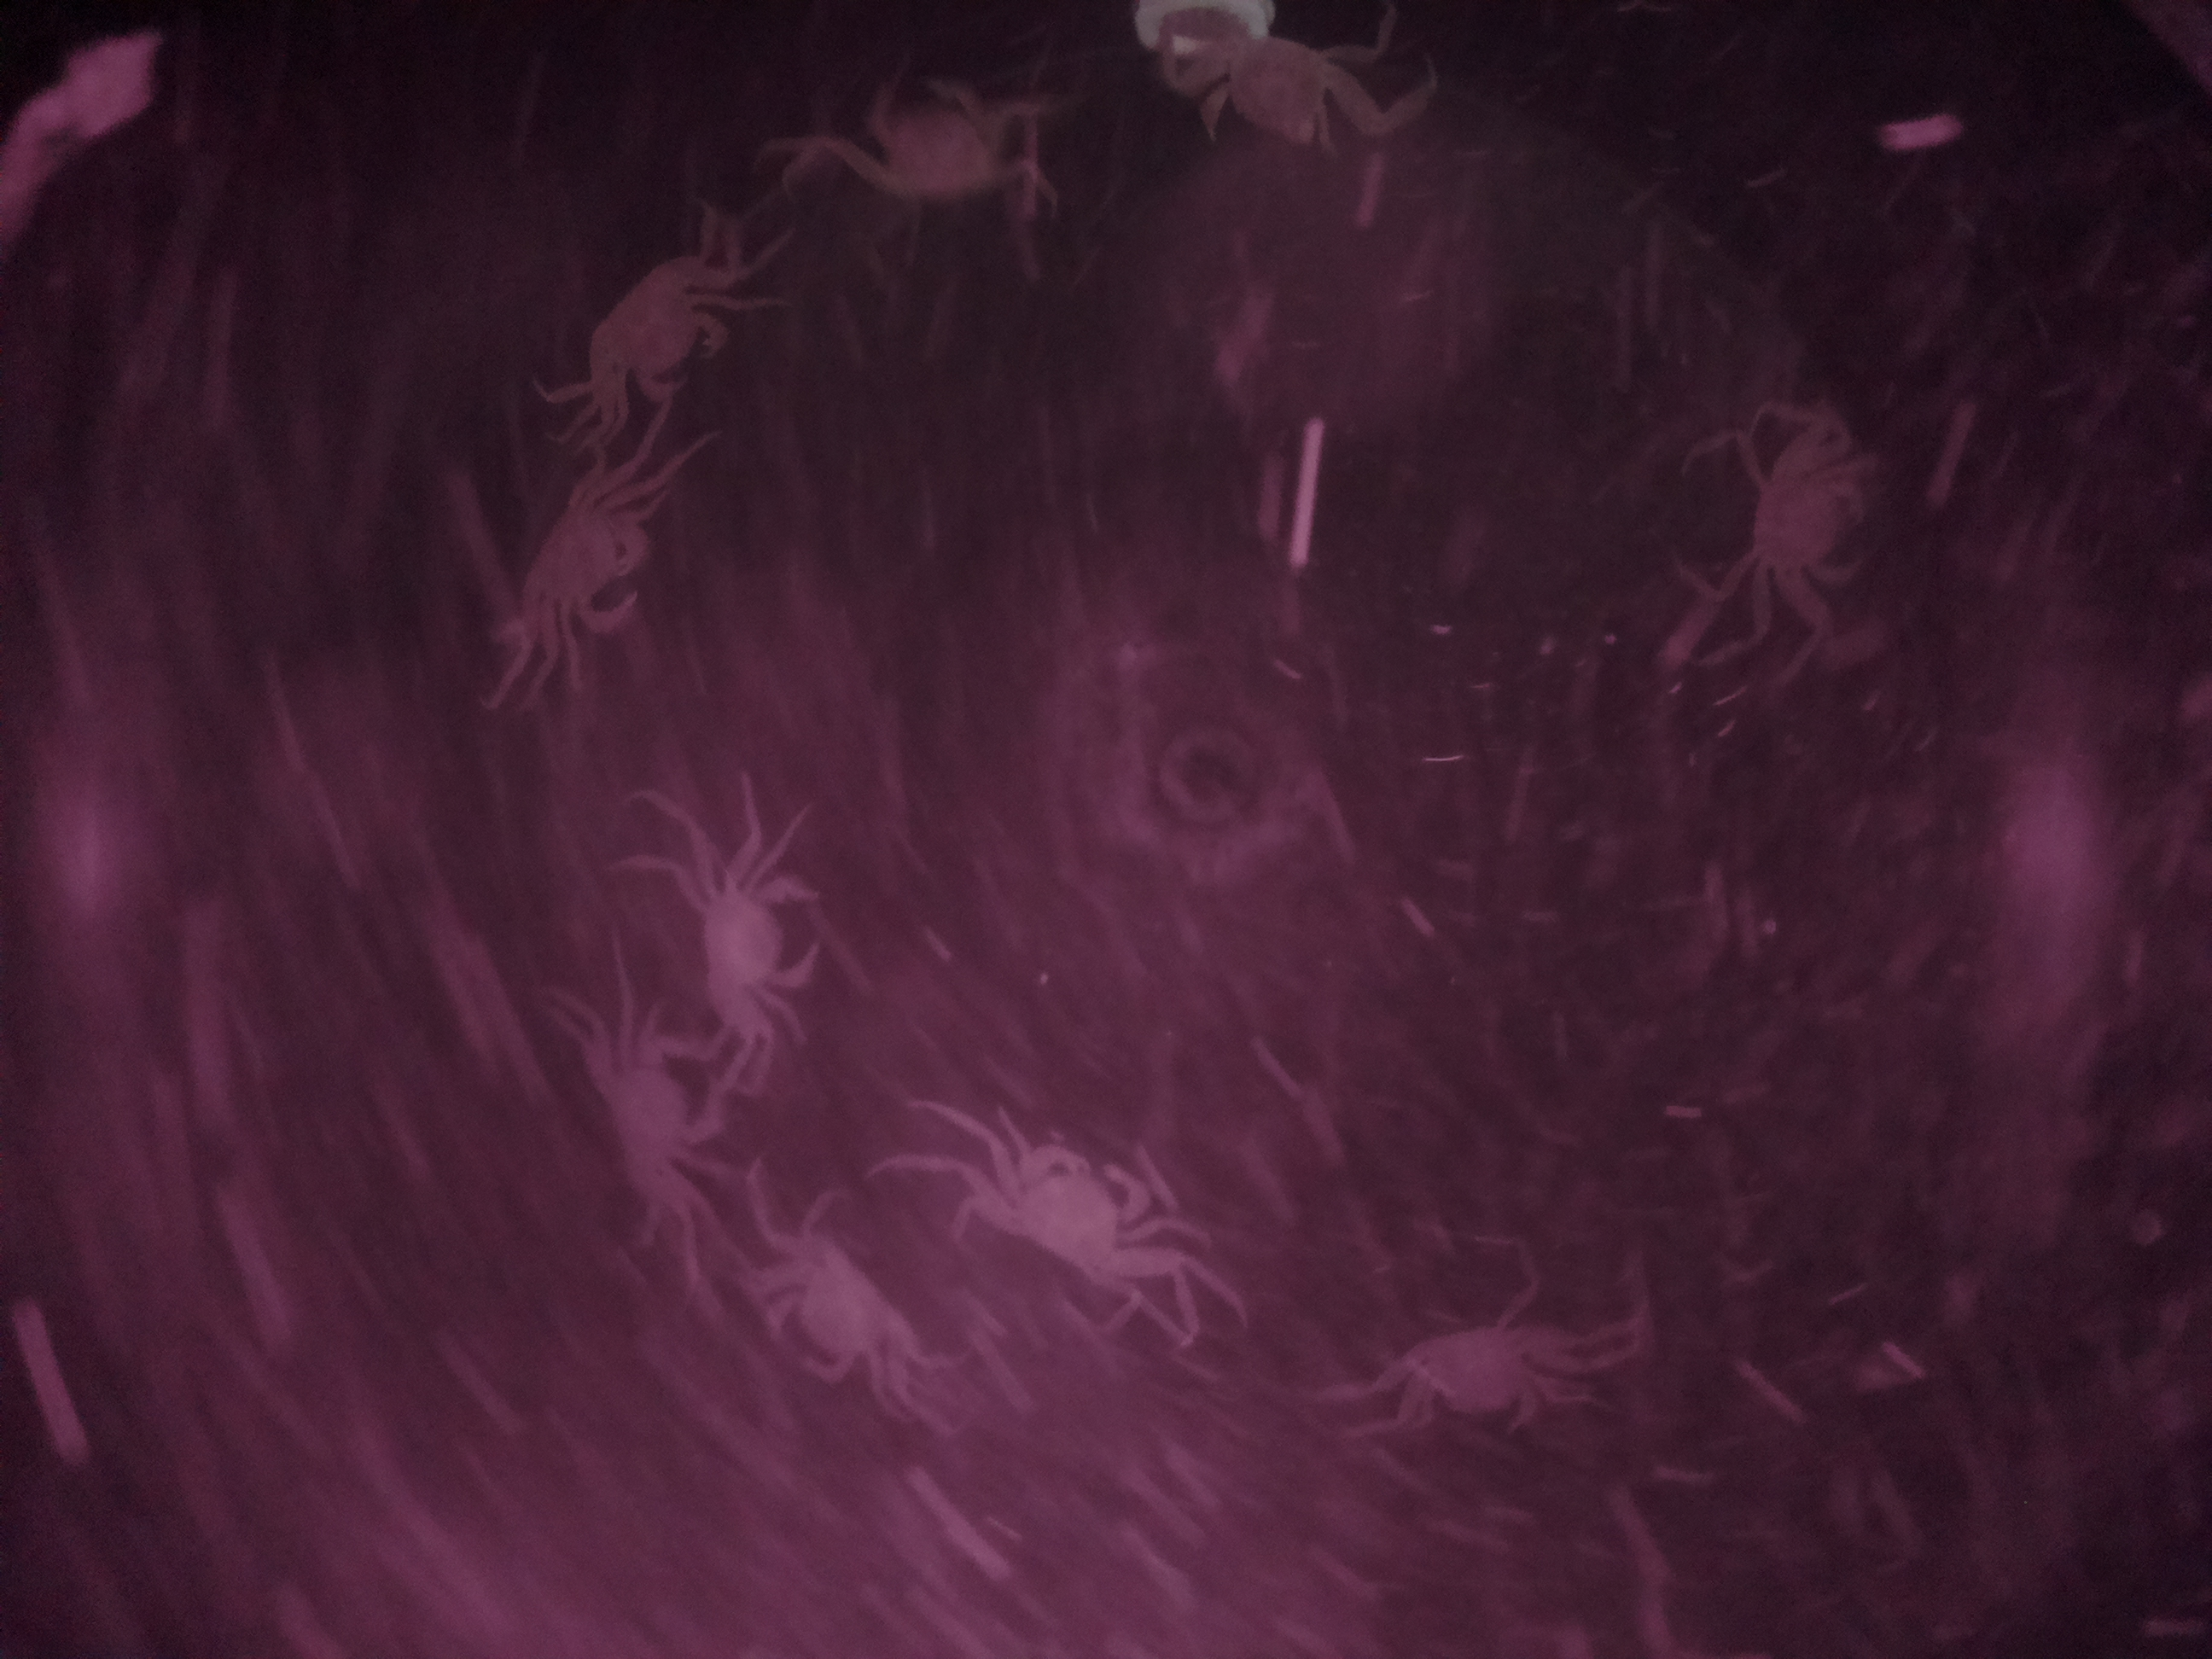Crab: (1681, 434, 1902, 615), (974, 1117, 1163, 1317), (745, 1216, 930, 1419), (672, 847, 841, 1056), (577, 235, 749, 439), (509, 465, 671, 681), (1355, 1295, 1581, 1446)
